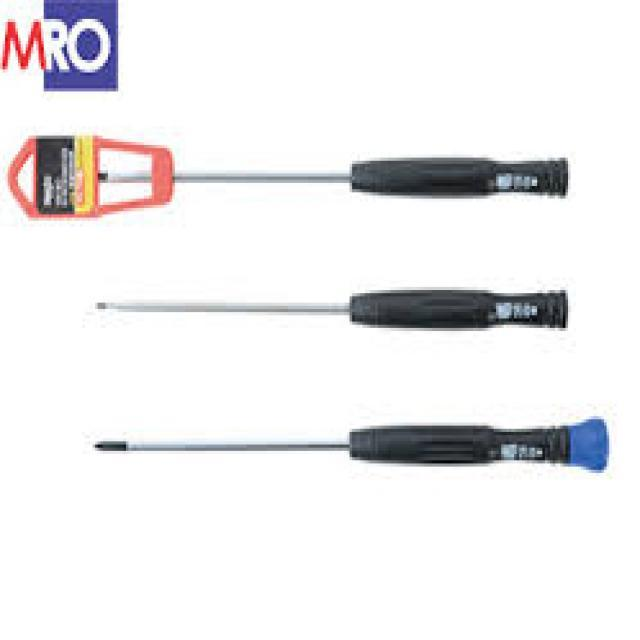screwdriver: (87, 416, 612, 473), (90, 280, 571, 334), (97, 147, 574, 200)
